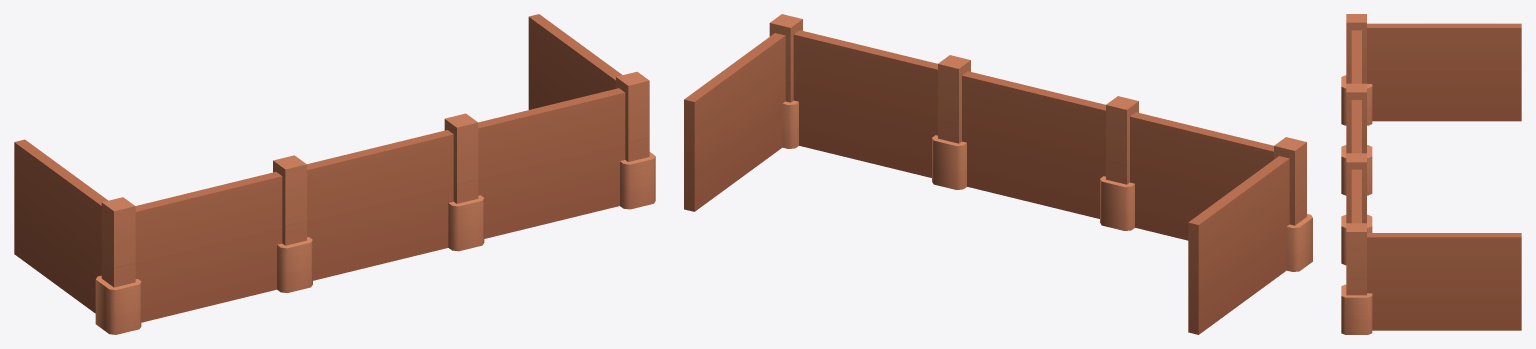
Rendered from fence-1x3.draco.glb.
3 views of the same model, side by side, from view 1: azimuth 30°, elevation 25°; view 2: azimuth 150°, elevation 25°; view 3: azimuth 270°, elevation 25° (orthographic). The views are drawn at different scales.
Parts seen in each view (by area): view 1: fence-1x3; view 2: fence-1x3; view 3: fence-1x3.
Boxes of the visible parts, x1,y1,x2,y2 form: fence-1x3: [14, 14, 655, 334]; fence-1x3: [684, 14, 1312, 334]; fence-1x3: [1341, 14, 1521, 334].
Size of the model in its own units: 1.28 by 0.27 by 0.4375.
Materials: 1 (1 with a texture image).
